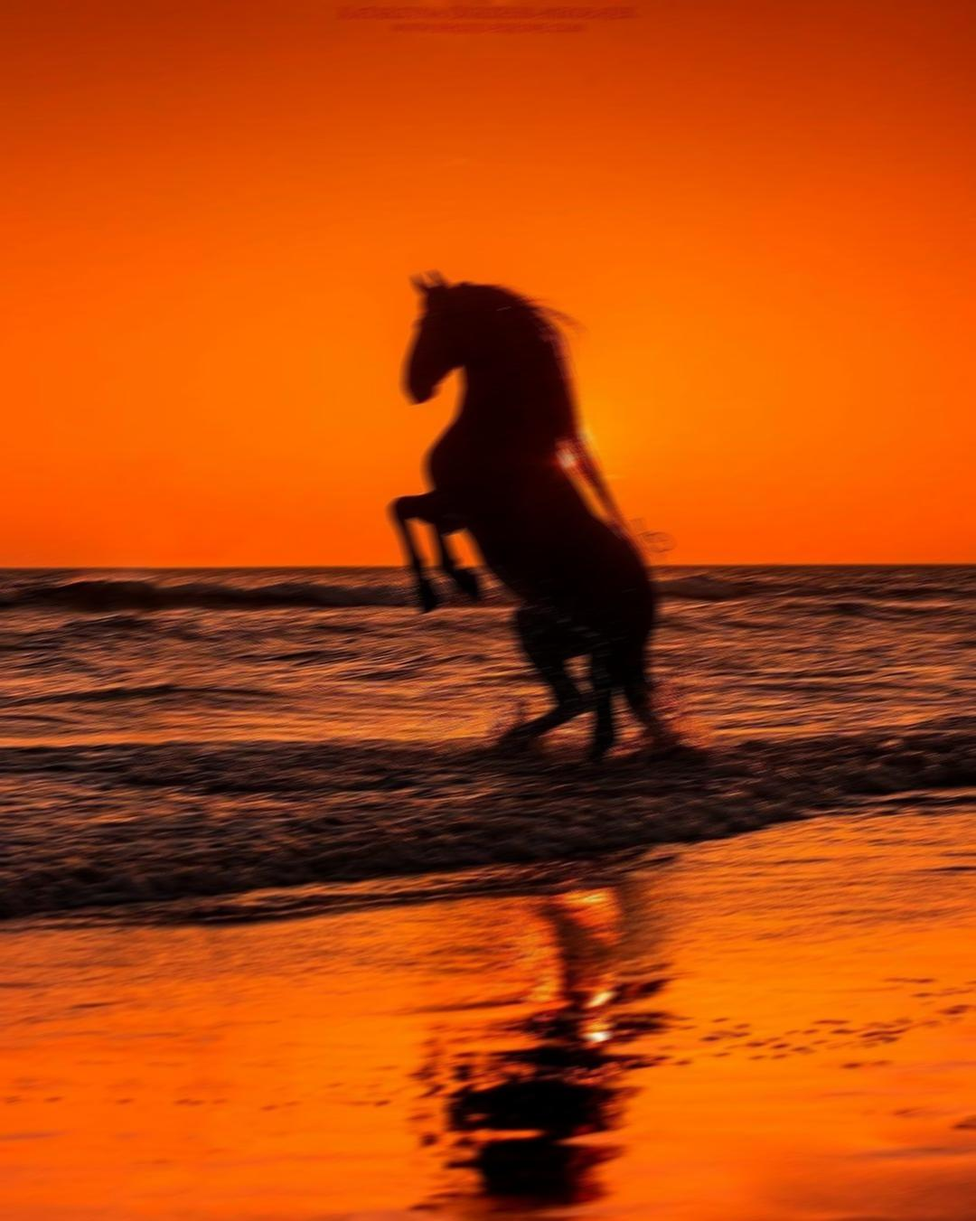horse: (388, 268, 671, 765)
